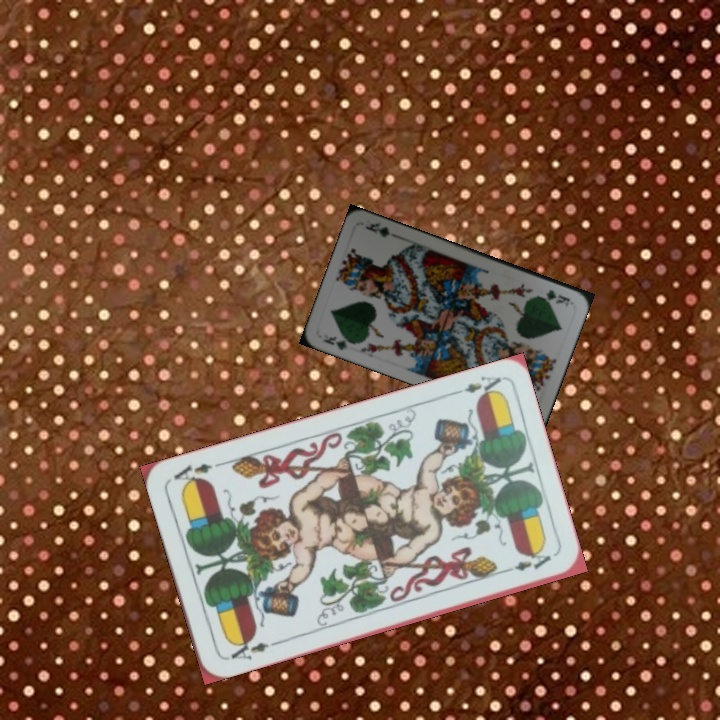EA: (222, 633, 280, 663), (446, 372, 504, 401)
GK: (319, 332, 358, 353), (542, 285, 573, 306)
